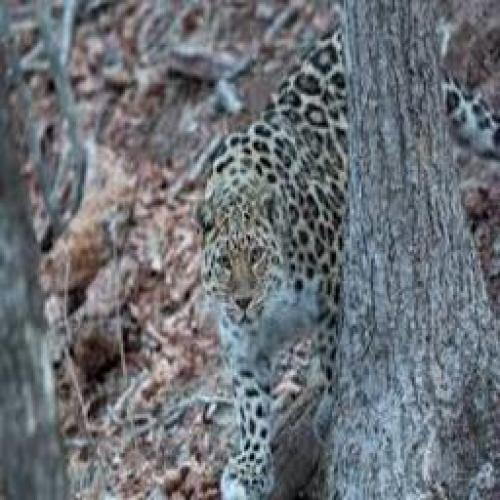amur_leopard-endangered: (189, 27, 411, 487)
